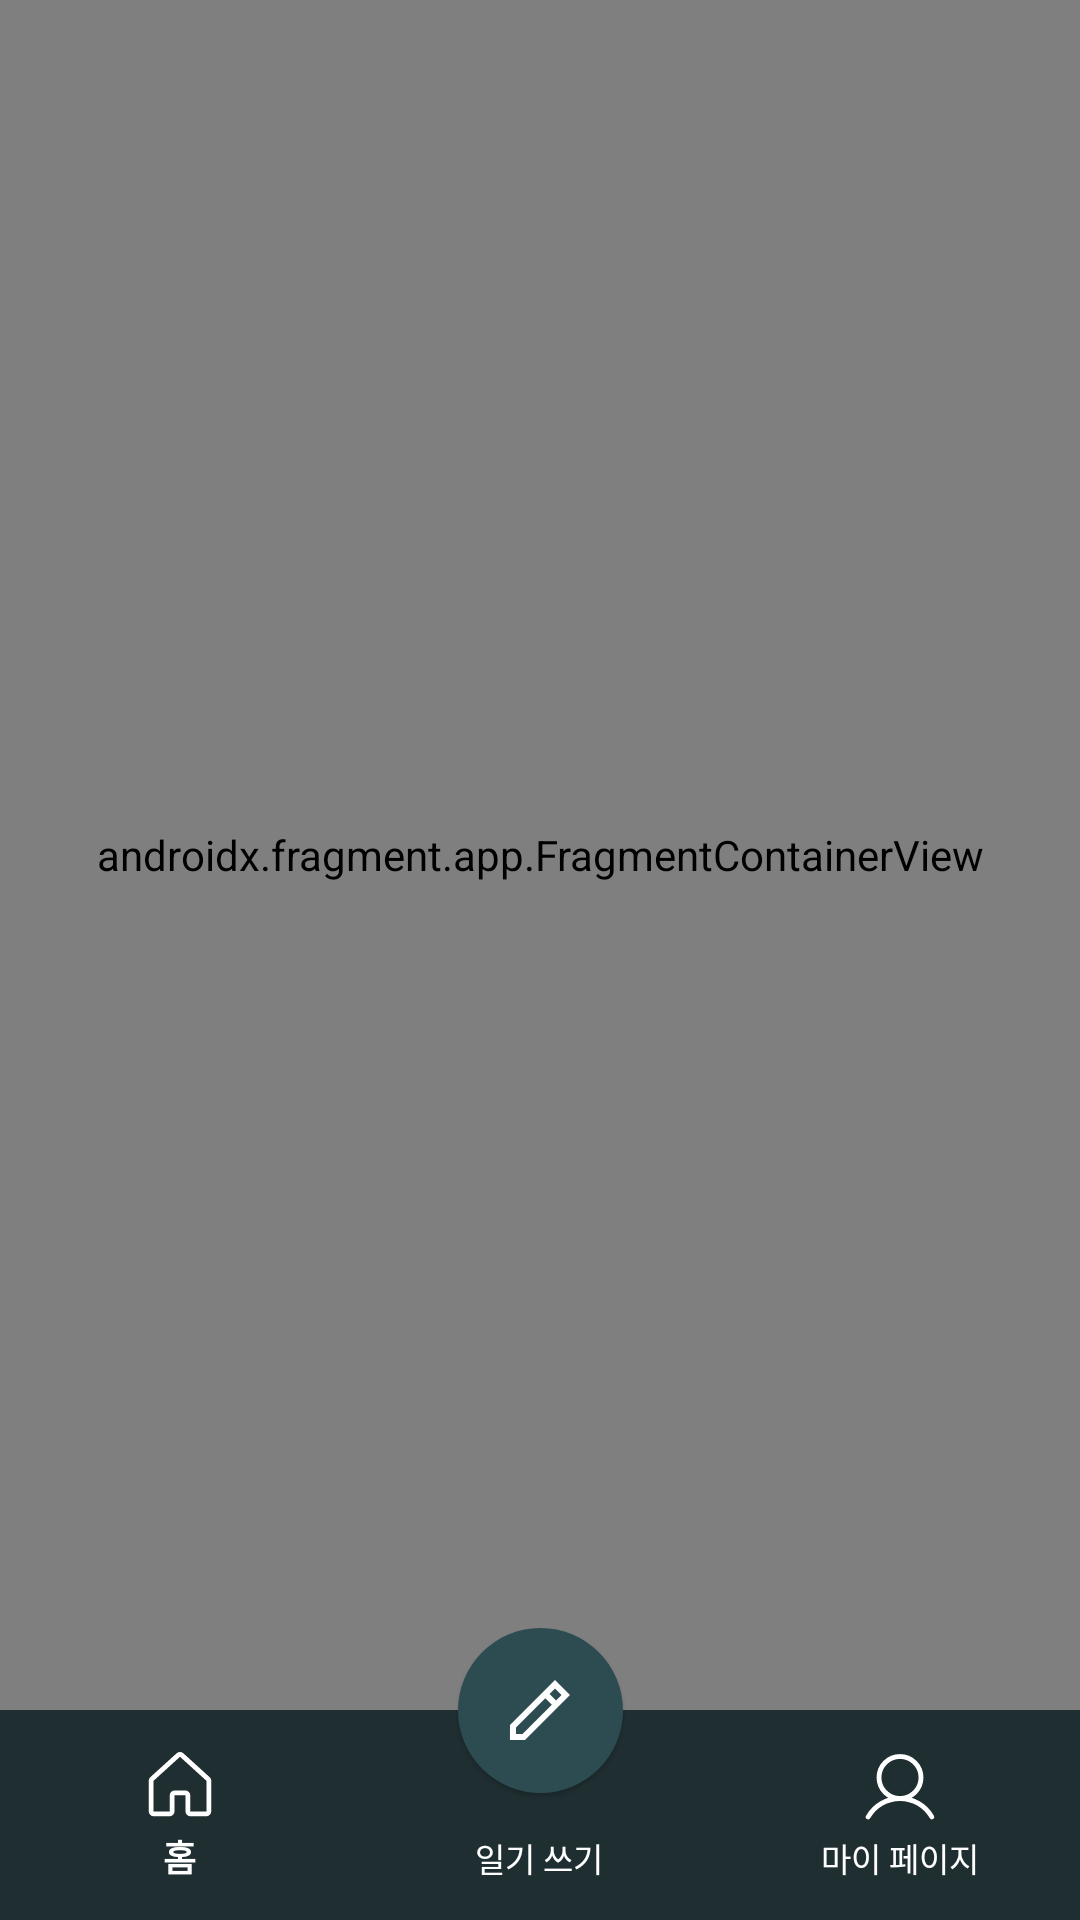

Point at icon controls on the screen. Image size 1080px x 1920px, points as (x,y).
pencil navi: (540,1710)
